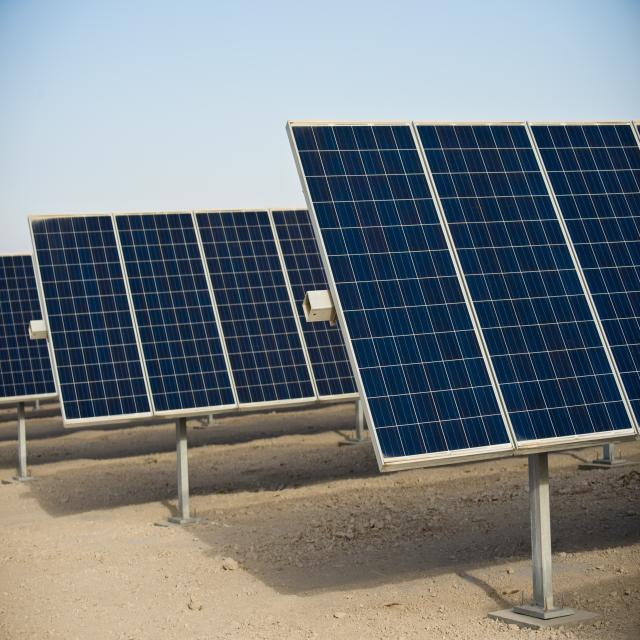clean: (294, 125, 640, 468), (36, 217, 320, 419)
